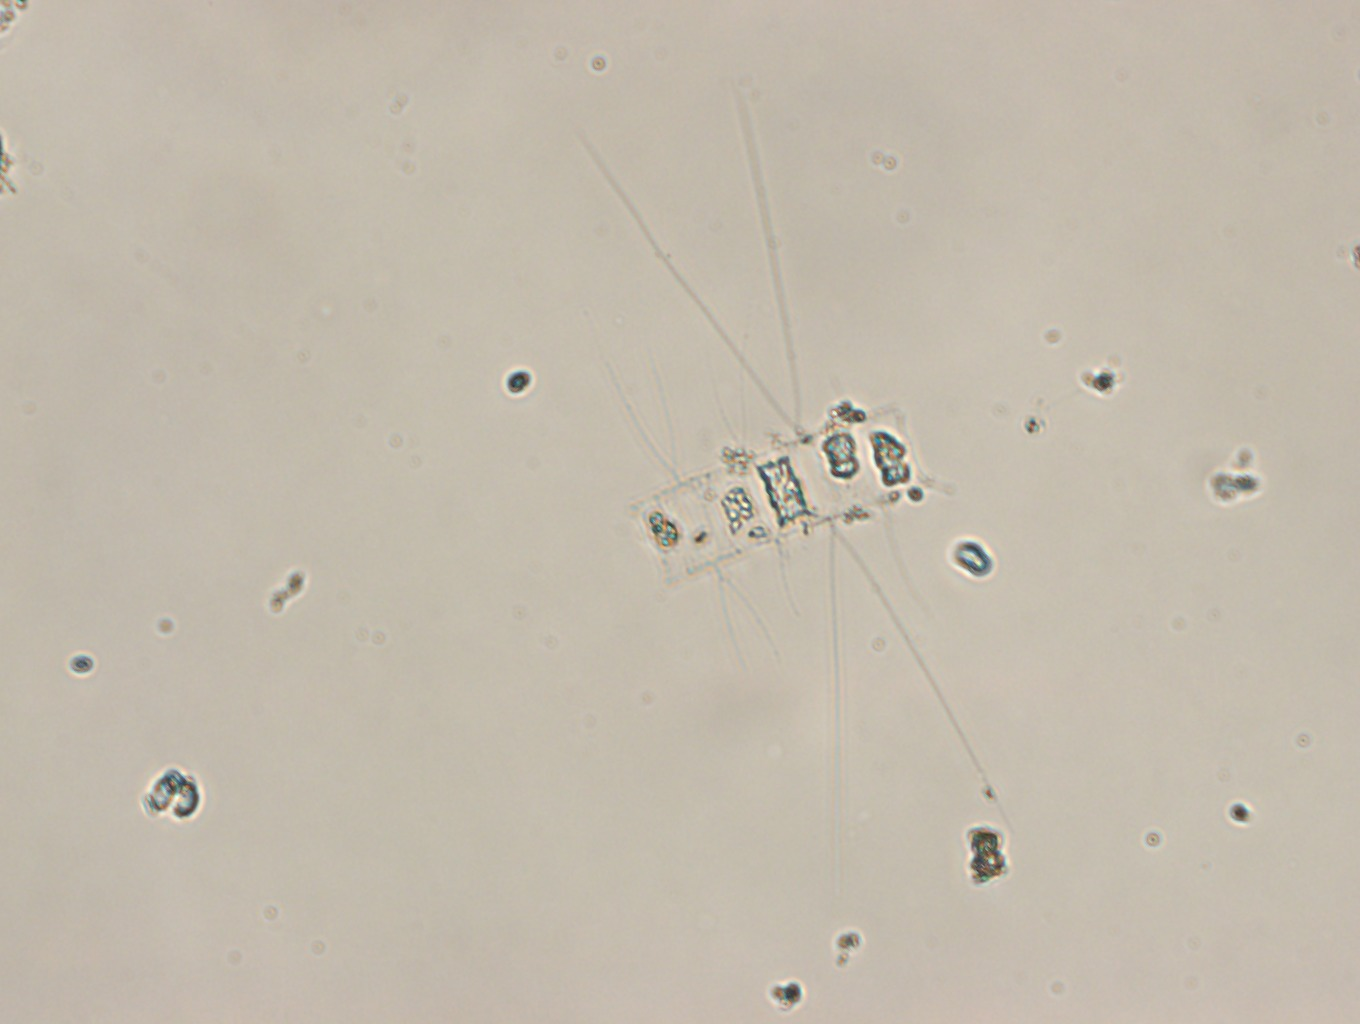chaetoceros: (582, 97, 1015, 883)
